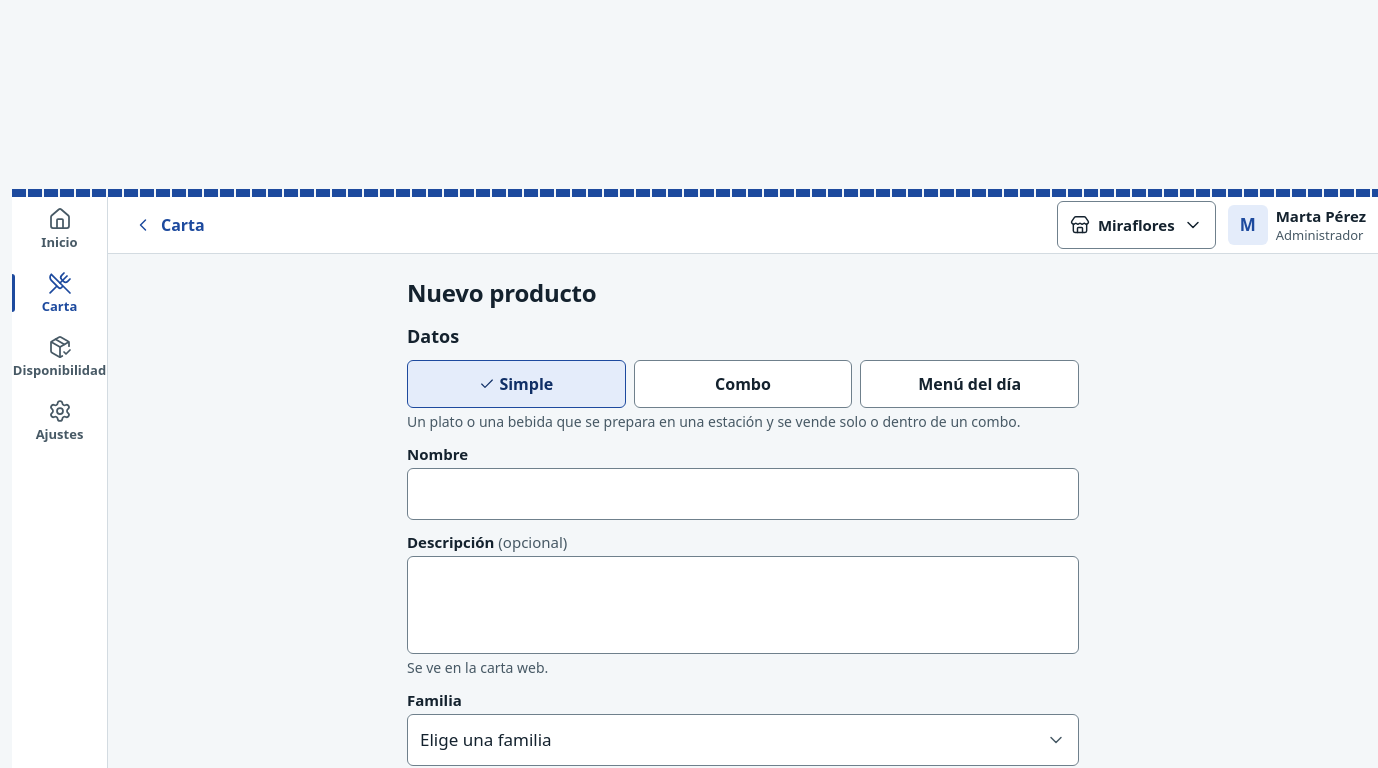
formulario de combo: alta › el selector ofrece los tres tipos; al elegir Combo se van la estación y "Se vende solo" y aparecen los componentes
The image size is (1378, 768).
(page scrolled)
Check: the heading "Datos" is shown, box [407, 324, 459, 348]
Check: the heading "Componentes" is not shown
Click the button "Combo": (743, 384) [634, 360, 852, 408]
(page scrolled)
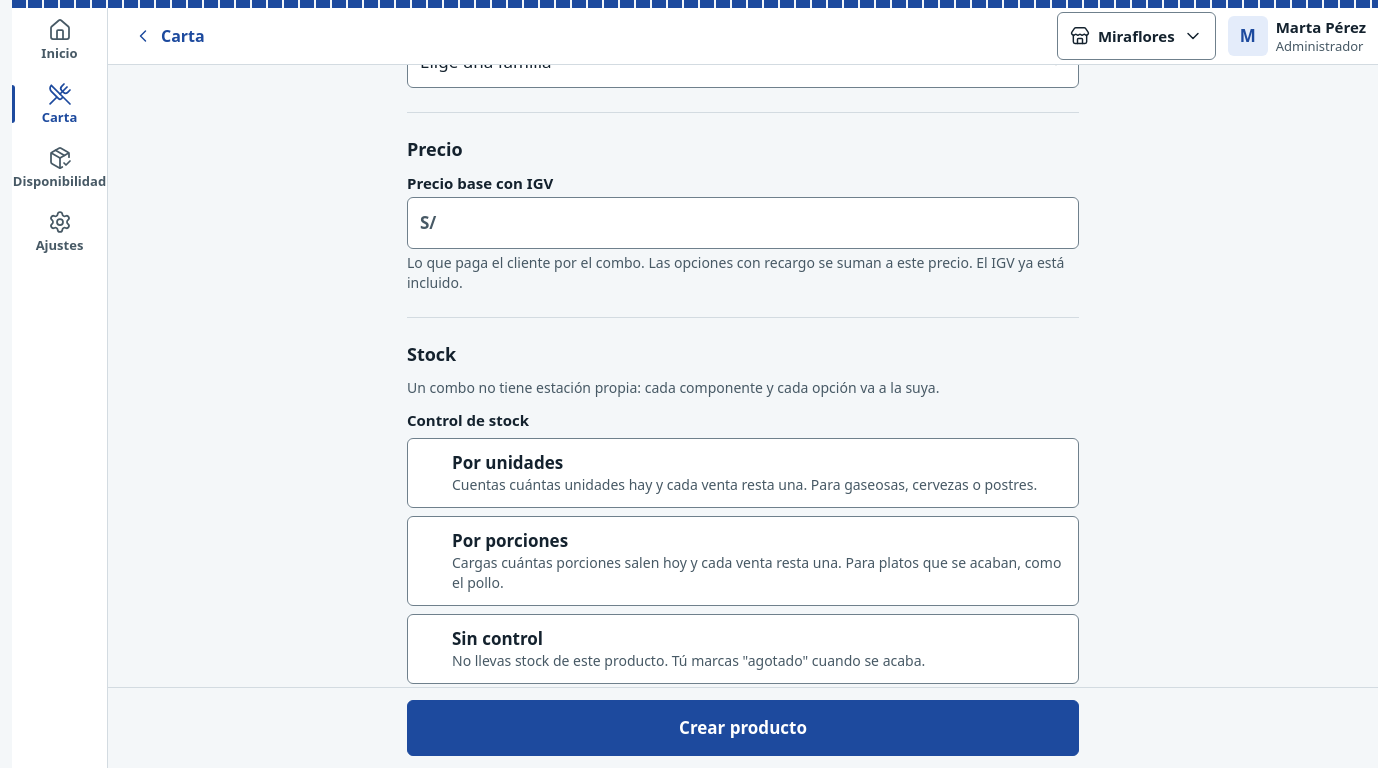
Check: the text "se vende solo" is gone
Check: the heading "Componentes" is shown, box [407, 733, 532, 757]
Check: the field labelled "Precio base con IGV" is shown, box [436, 199, 1078, 247]
